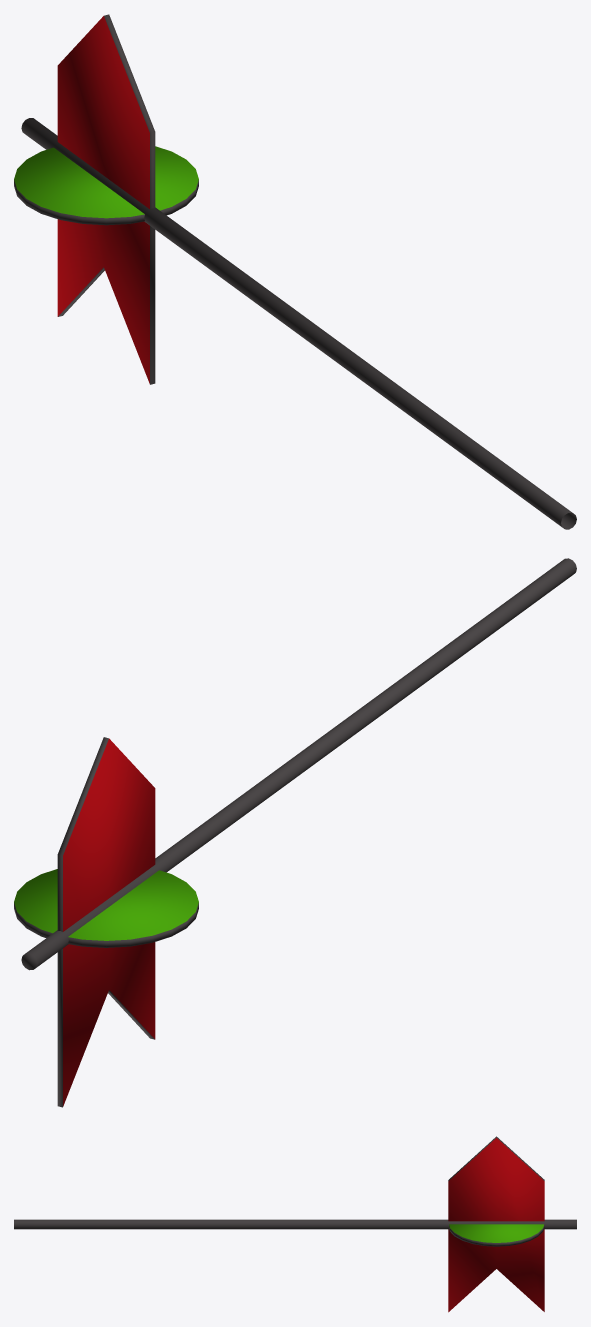
File: DirectionIndicator_01_Arrow.fbx
3 views of the same model, one above another, from view 1: azimuth 30°, elevation 25°; view 2: azimuth 150°, elevation 25°; view 3: azimuth 270°, elevation 25° (orthographic). The views are drawn at different scales.
Parts seen in each view (by area): view 1: DirectionIndicator_01_Arrow_low; view 2: DirectionIndicator_01_Arrow_low; view 3: DirectionIndicator_01_Arrow_low.
Part boxes in pixels (x1,y1,x2,y2): DirectionIndicator_01_Arrow_low: (14,14,576,529); DirectionIndicator_01_Arrow_low: (14,558,576,1107); DirectionIndicator_01_Arrow_low: (14,1136,576,1312).
Bounding box in the file's own units: 0.6 × 1.2 × 3.5.
